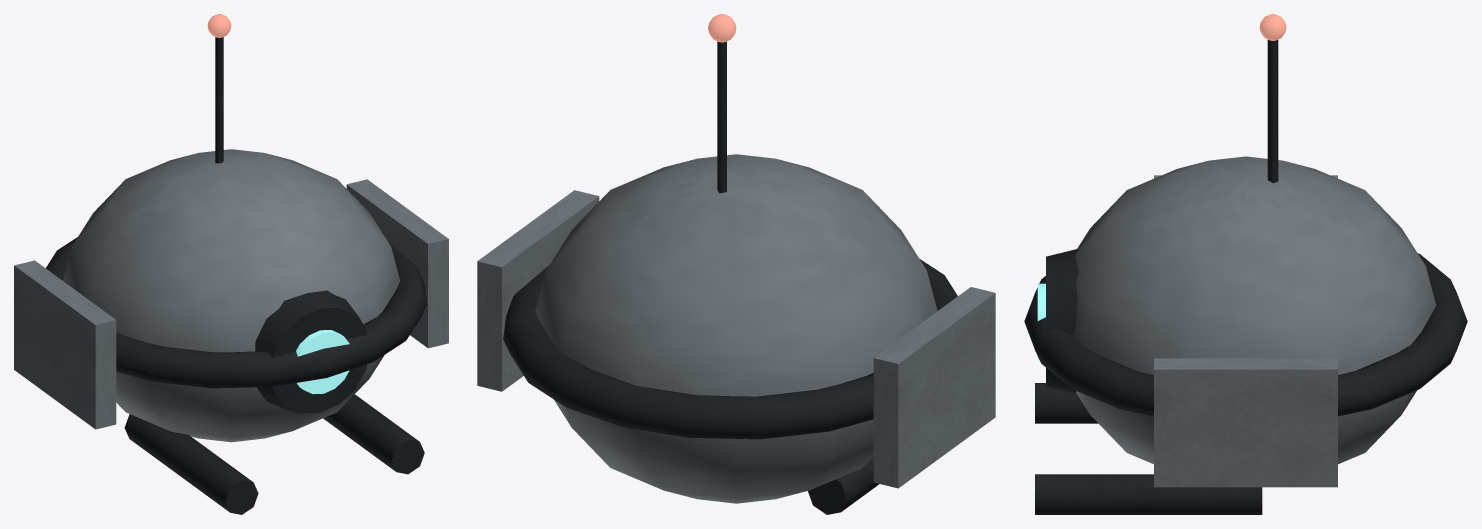
File: enemy_sentry.glb
3 views of the same model, side by side, from view 1: azimuth 30°, elevation 25°; view 2: azimuth 150°, elevation 25°; view 3: azimuth 270°, elevation 25° (orthographic). The views are drawn at different scales.
Bounding box in the file's own units: 0.85 × 0.925 × 0.82.
3 materials, 1 textured.
